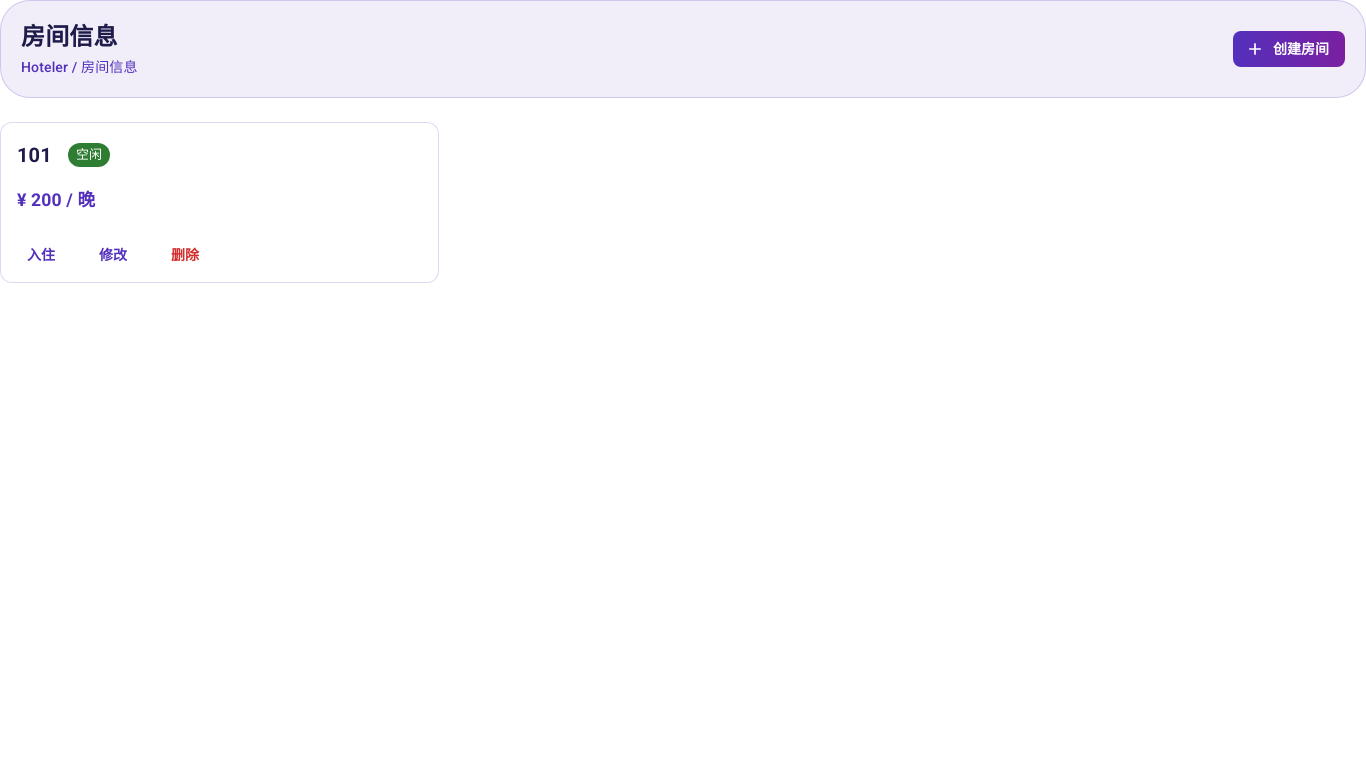
Test: MUI migration workflows › edits and deletes rooms through the existing endpoints
Check: the heading "101" is shown, box top-left (17, 139), bottom-right (52, 171)
Click the button "修改" at (113, 256), box top-left (81, 237), bottom-right (145, 274)
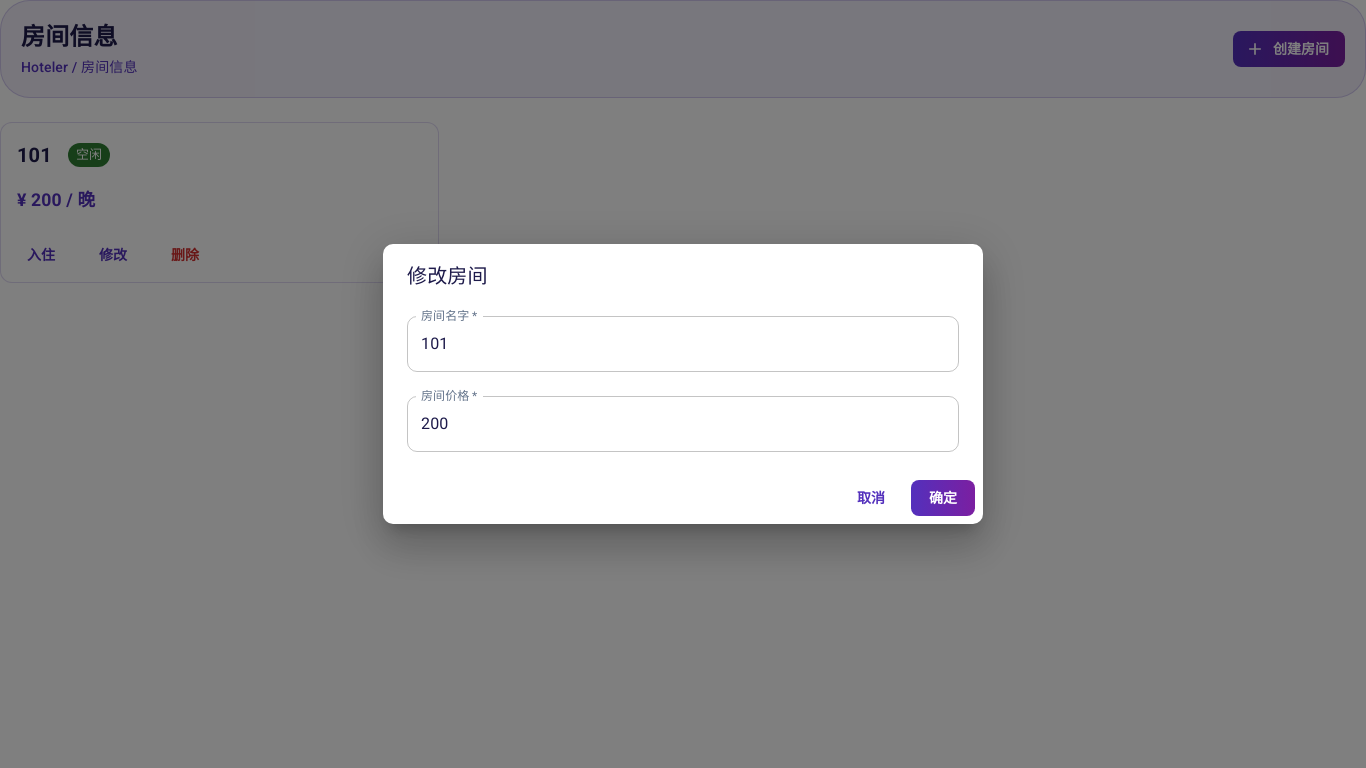
Replace the text in the field labelled "房间名字 *" with "101A" at (683, 344), box top-left (407, 316), bottom-right (959, 372)
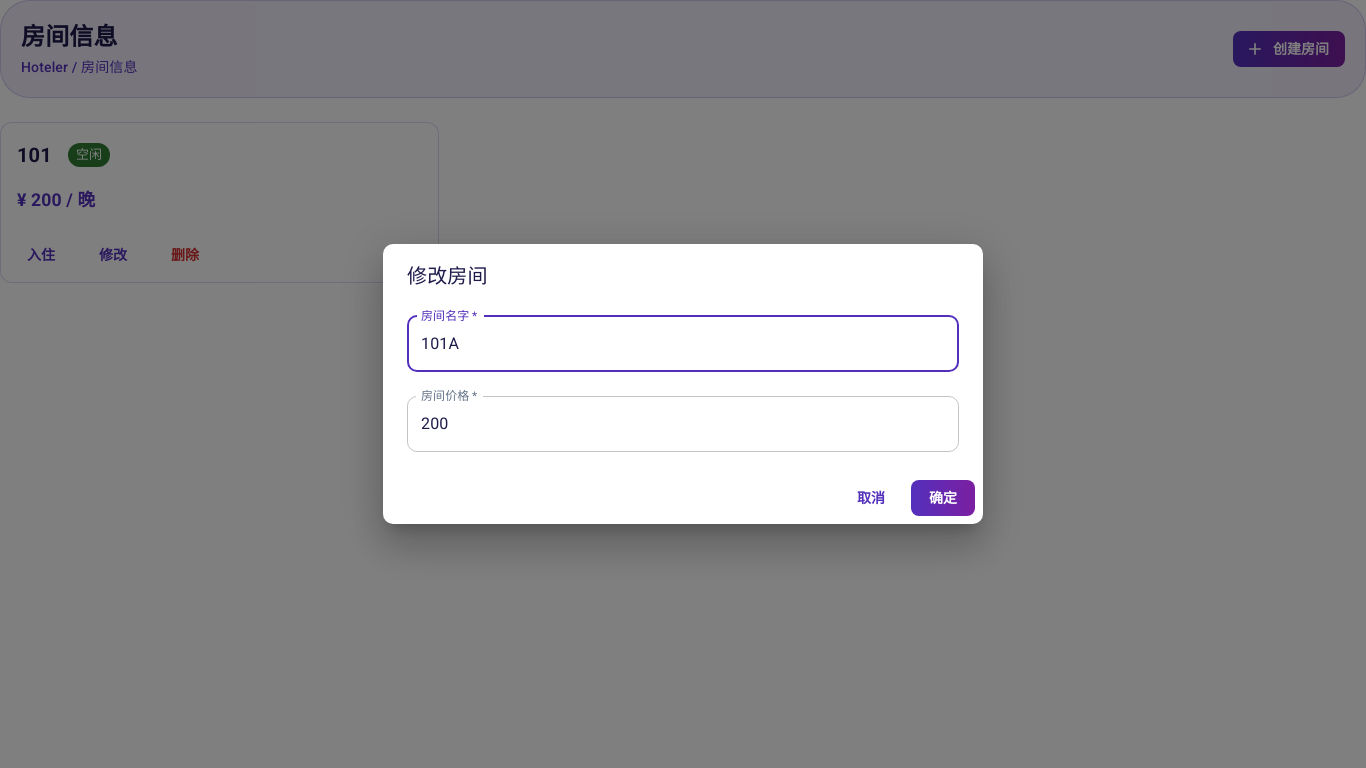
Click the button "确定" at (943, 498), box top-left (911, 480), bottom-right (975, 516)
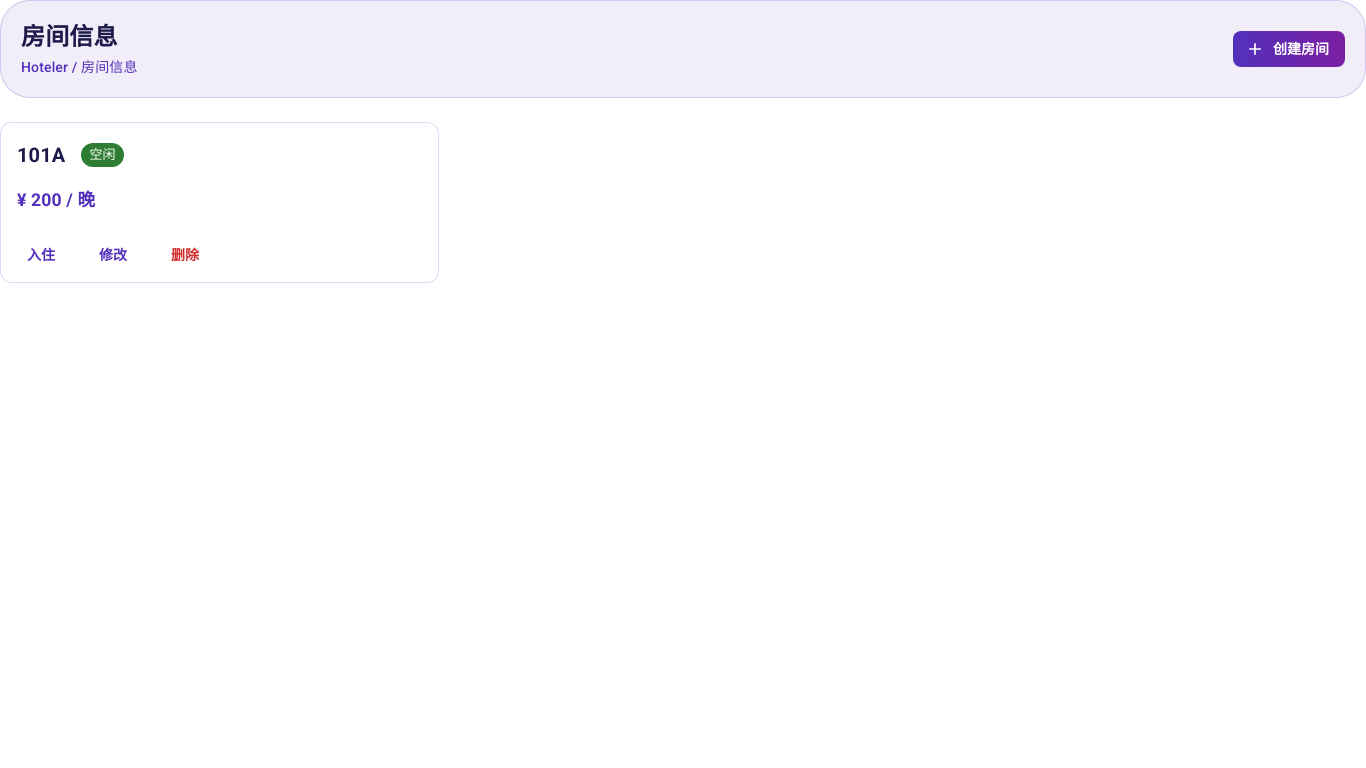
Check: the heading "101A" is shown, box top-left (17, 139), bottom-right (66, 171)
Check: the dialog is gone
Click the button "删除" at (185, 256), box top-left (153, 237), bottom-right (217, 274)
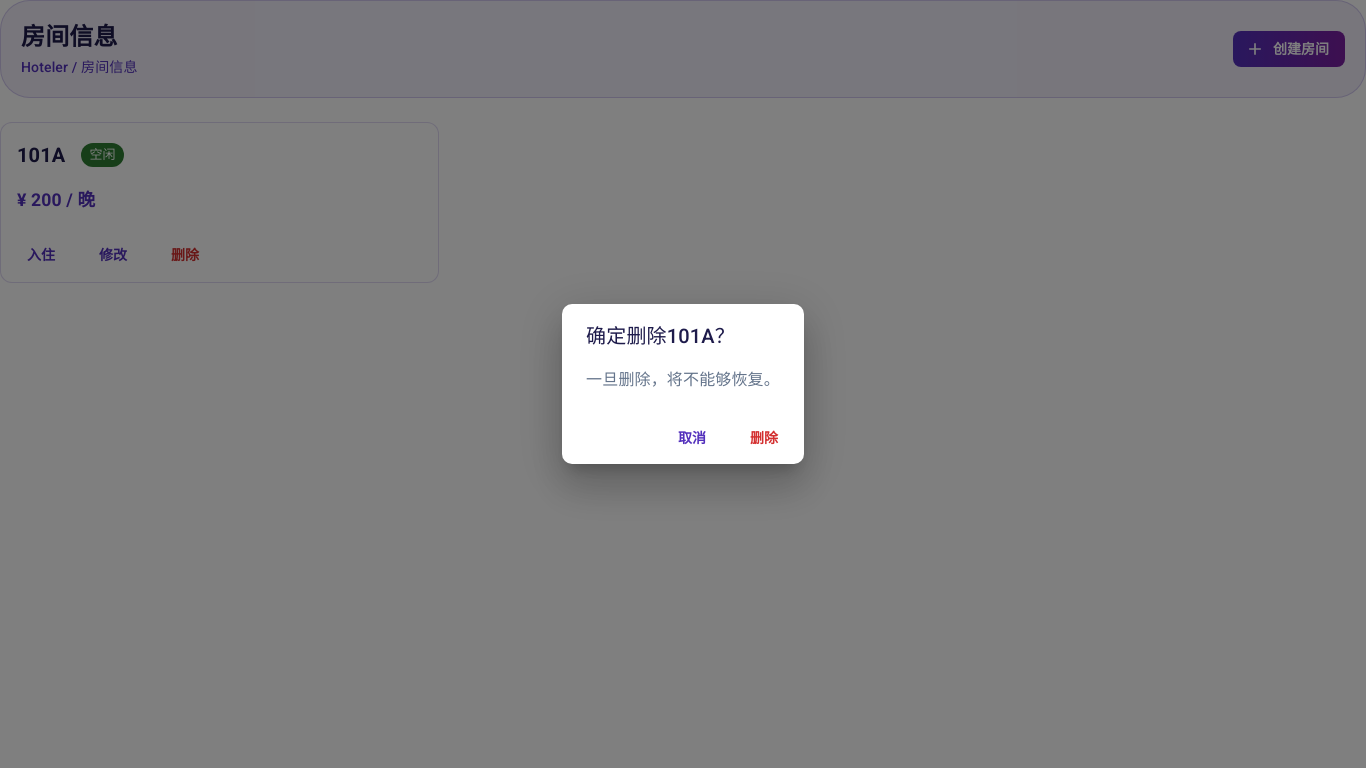
Click the button "删除" at (764, 438), box top-left (732, 420), bottom-right (796, 456)
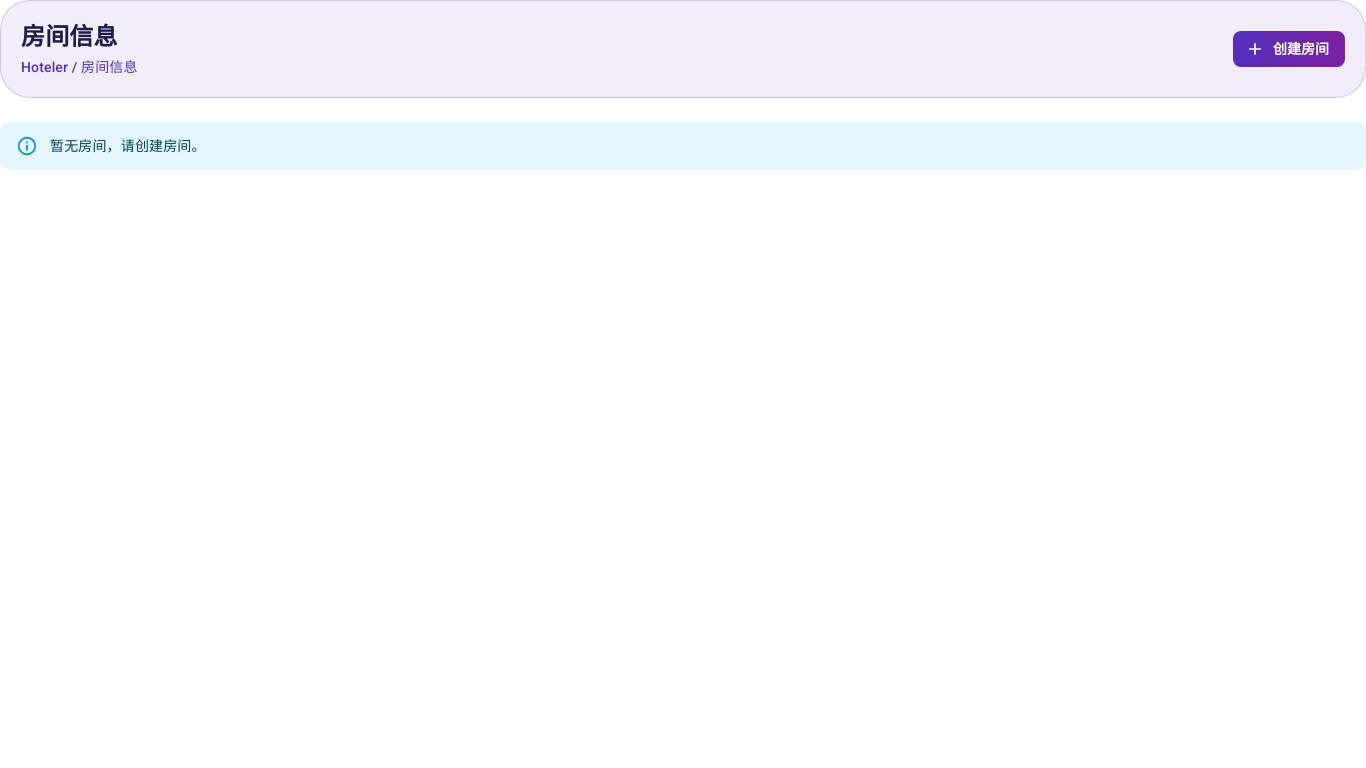
Check: the text "暂无房间，请创建房间。" is shown, box top-left (50, 138), bottom-right (206, 154)
